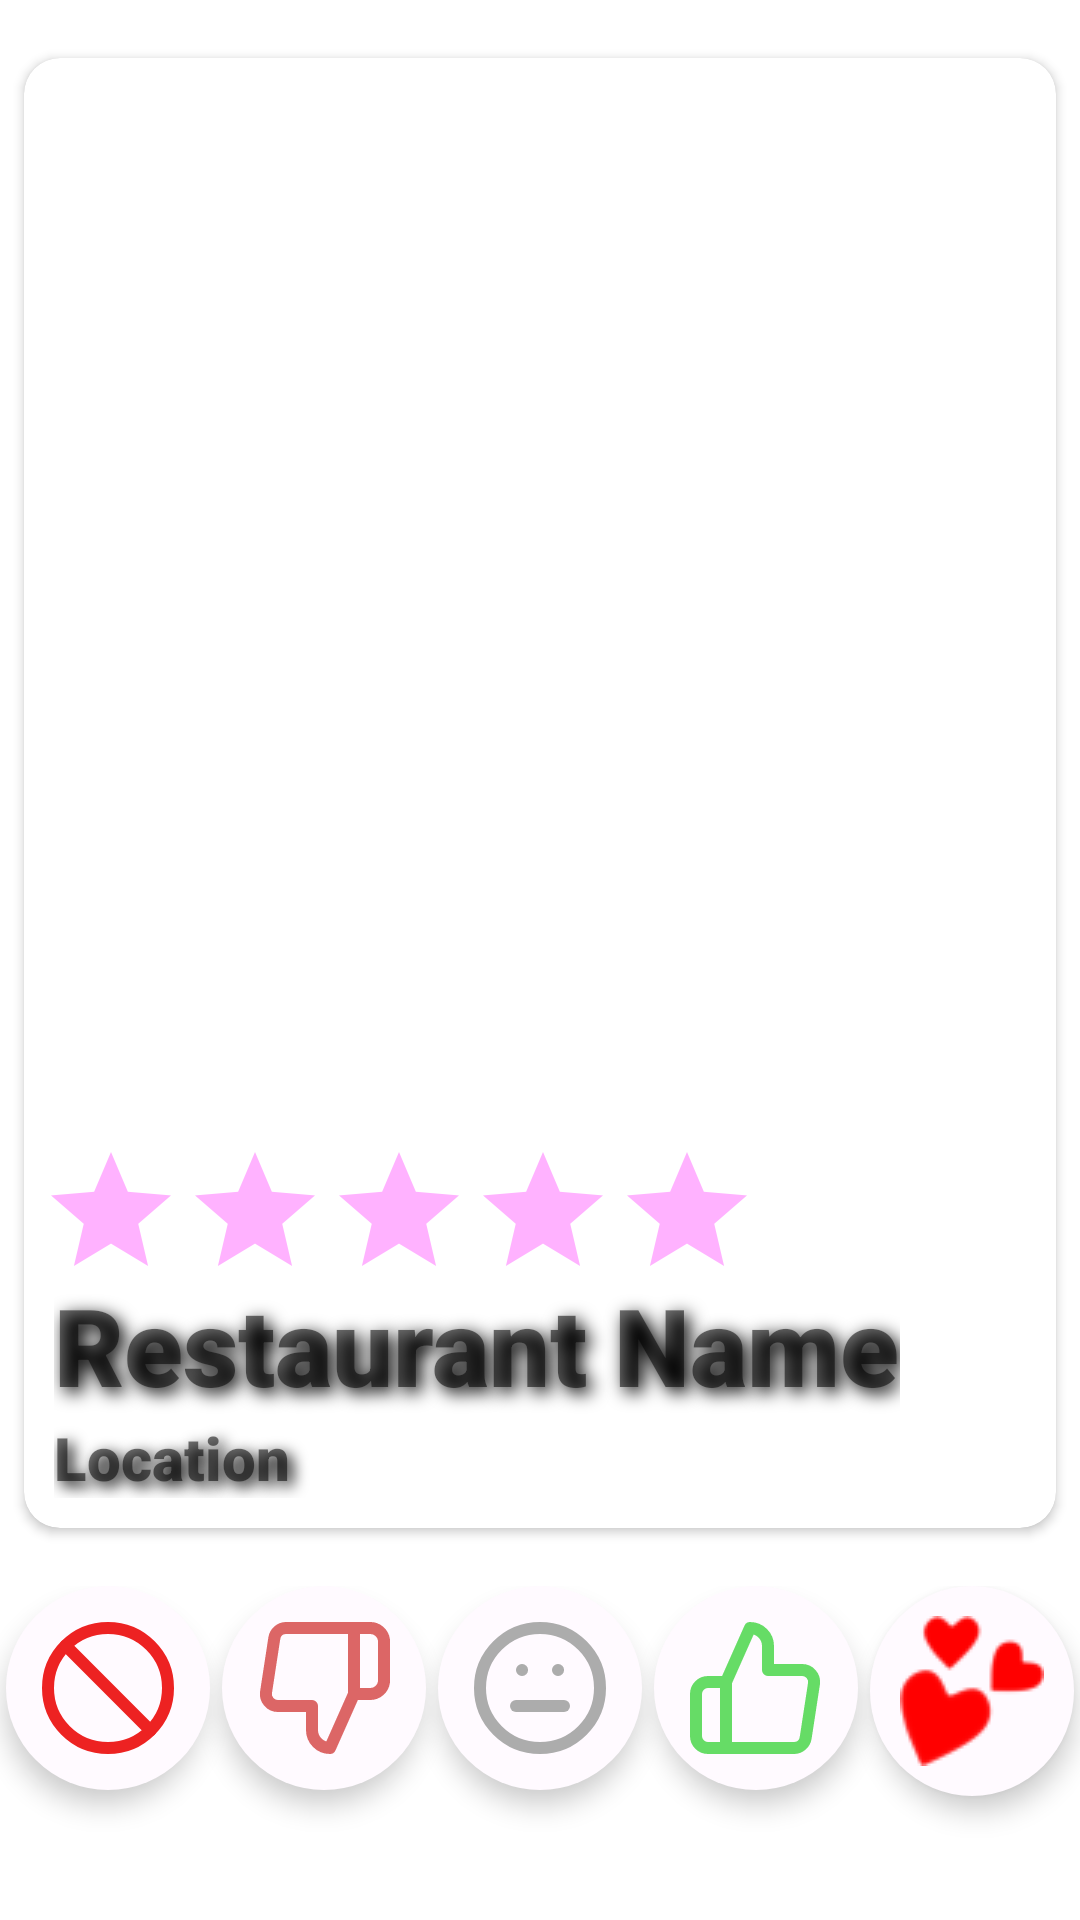

Screen size 1080x1920. Icon name, then its center in pixels as (x,y):
loveit: (958,1691)
meh: (540,1688)
slash: (108,1688)
thumbs down: (336,1688)
thumbs up: (743,1688)
